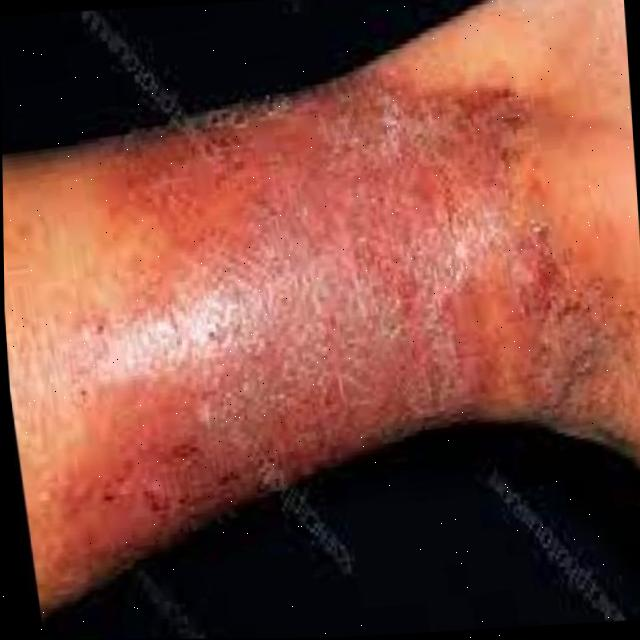Eczema: (57, 80, 576, 487)
